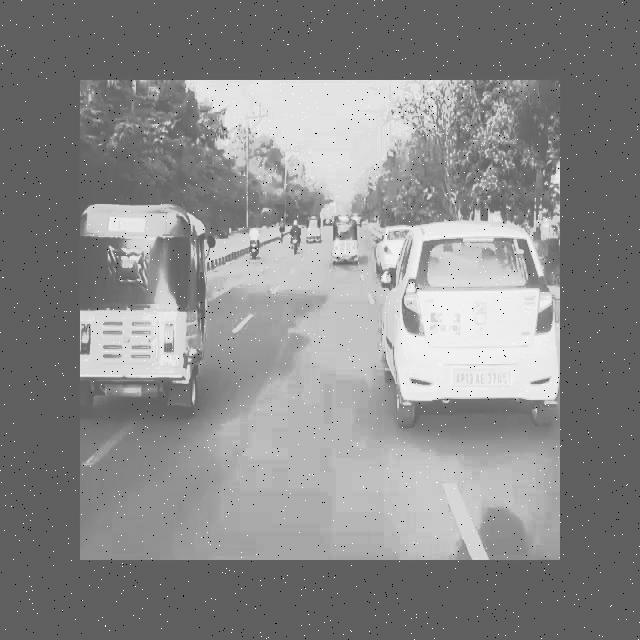Auto-Rickshaw: (80, 195, 212, 427), (325, 213, 365, 267)
Car: (386, 223, 561, 427)
